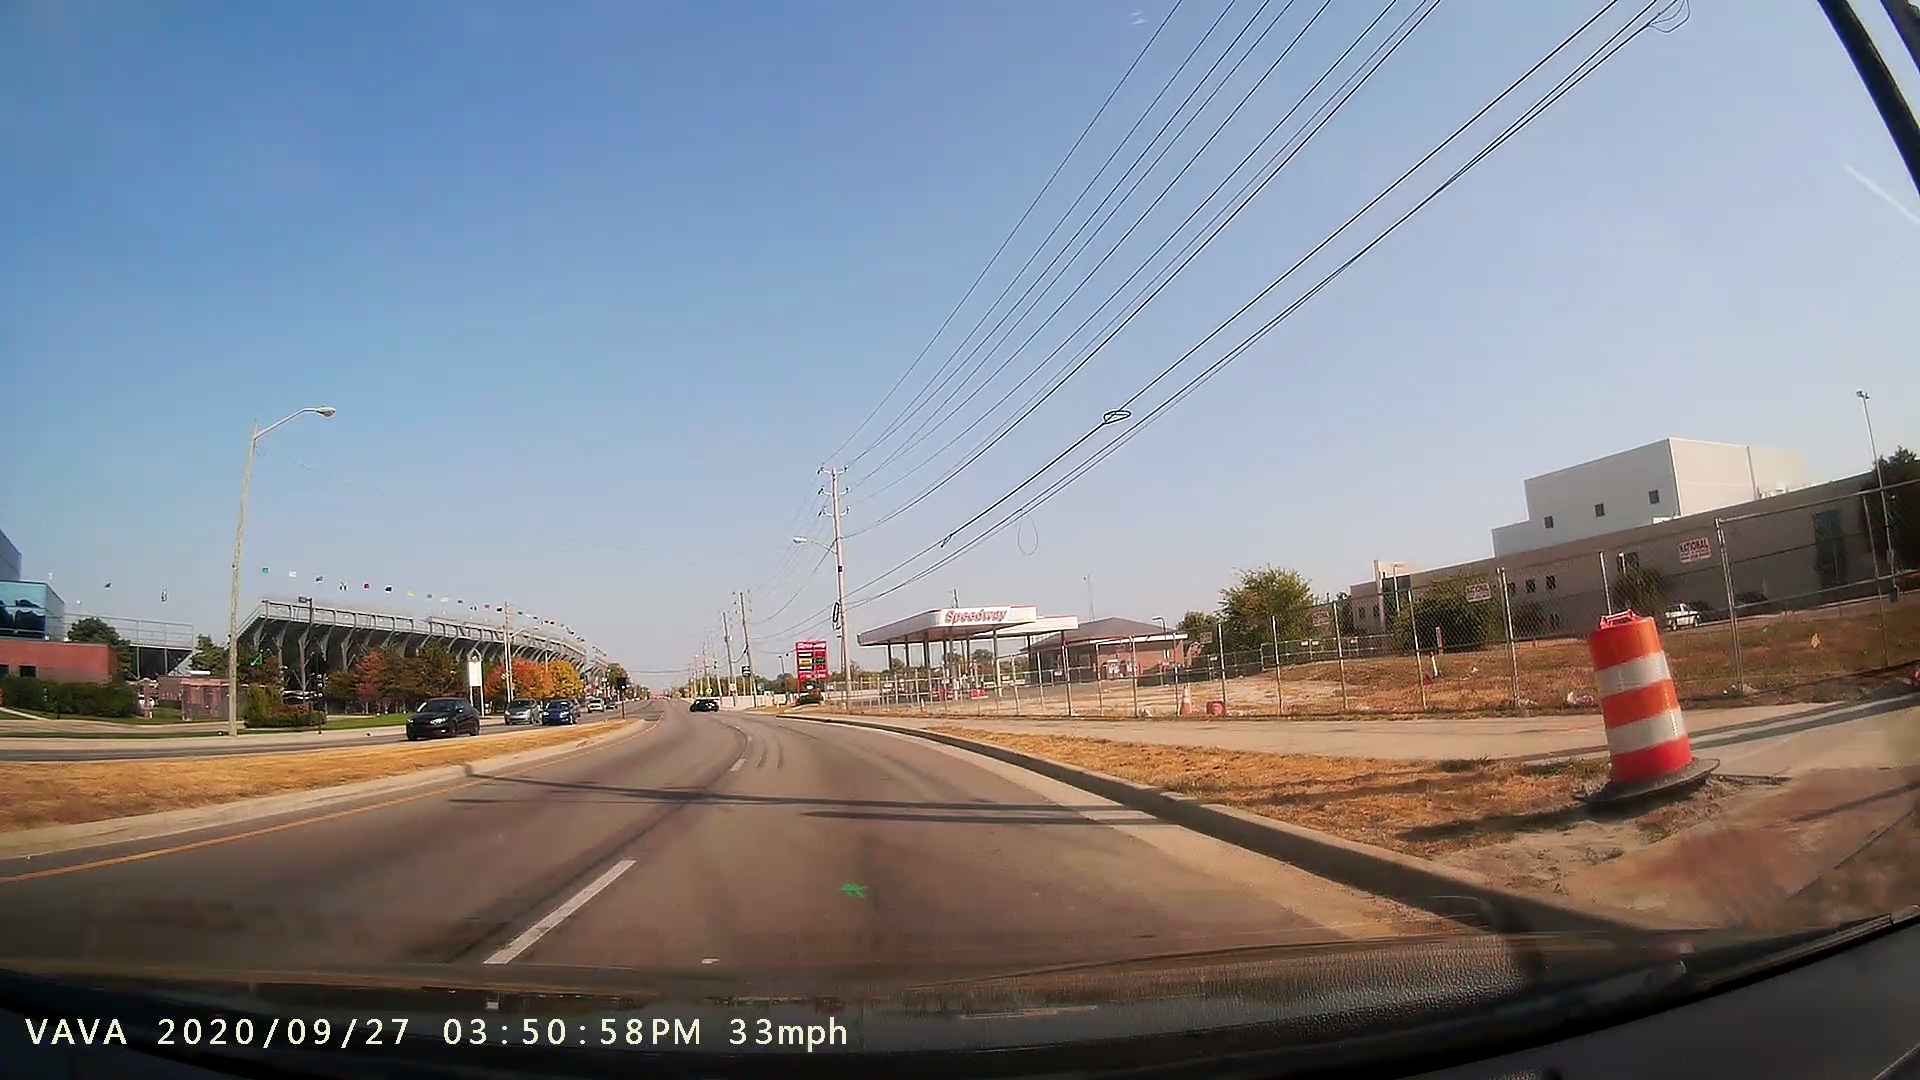const_barrel: (1564, 591, 1724, 819)
